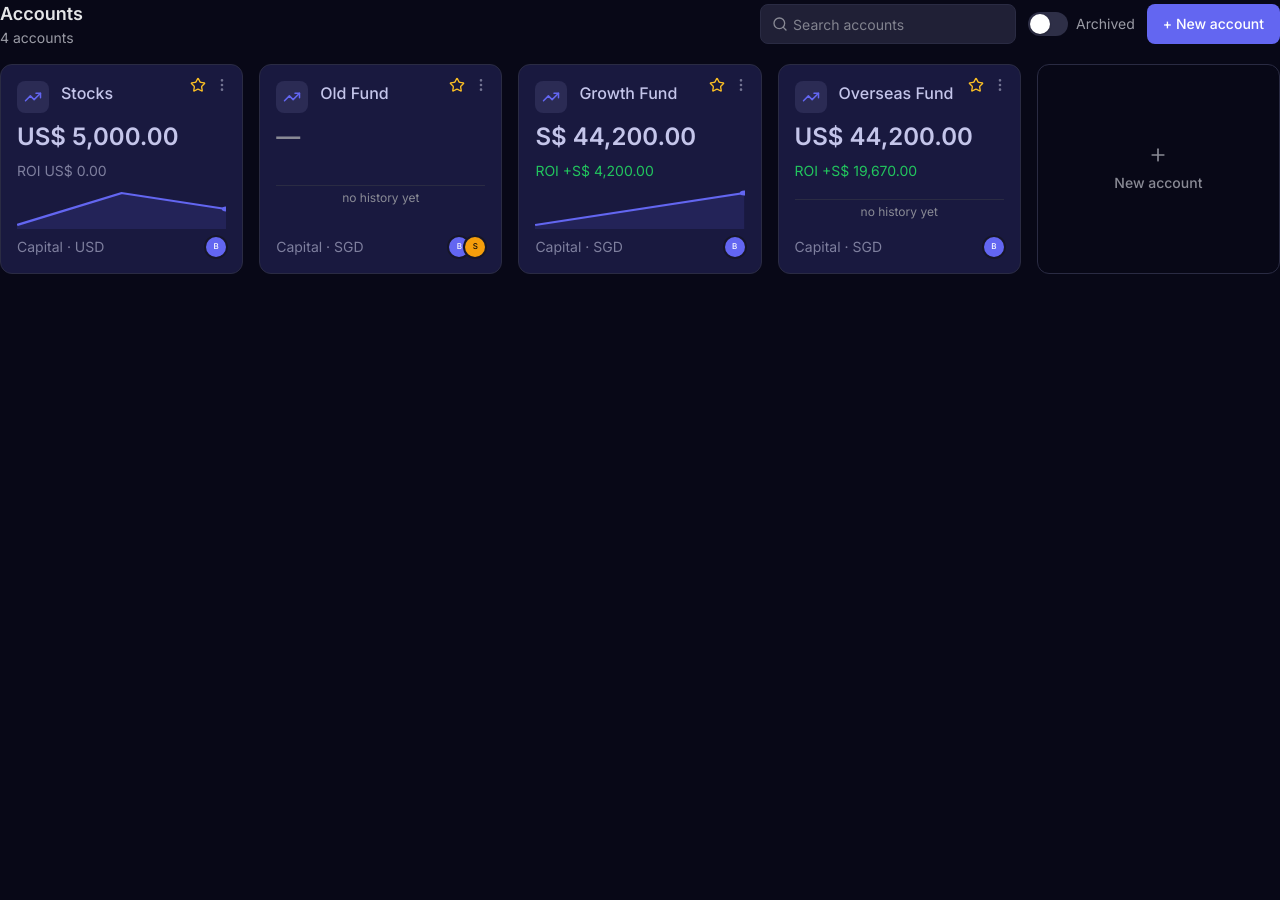
AccountsList › editing a capital prefills investment type + cost basis (AC4)
Expected: the text "Growth Fund" is shown, [579, 83, 677, 103]
# c1 (Stocks) is first on the capital route — cost_basis '5000.0000' → cleaned to '5000'.
What coordinates should you click on to do the following:
click the button named "Actions" next to "Stocks"
I would click on:
 (214, 77)
Its box is [214, 77, 230, 93].
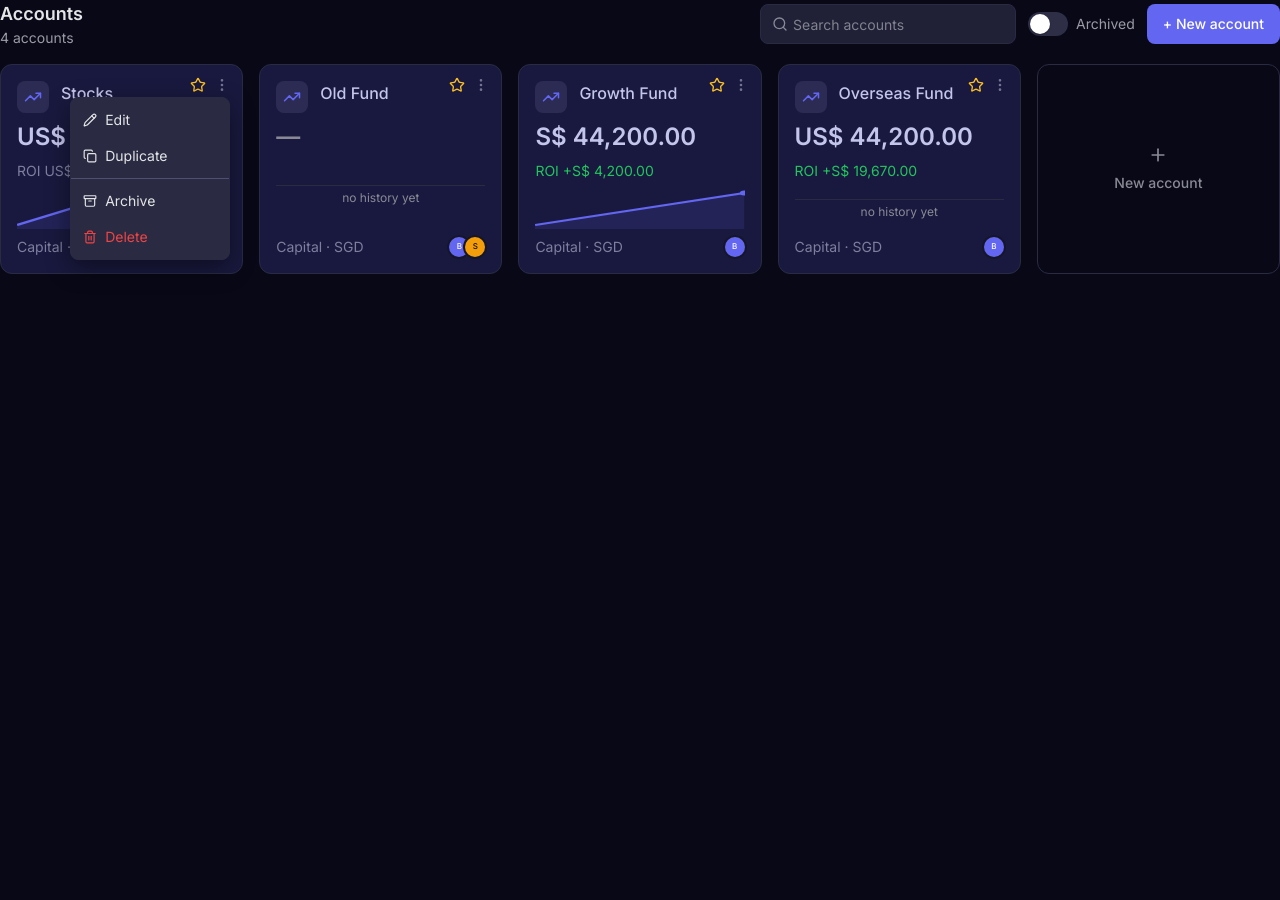
What coordinates should you click on to do the following:
click the menu item "Edit"
I would click on:
 (150, 120)
Its box is [71, 102, 229, 138].
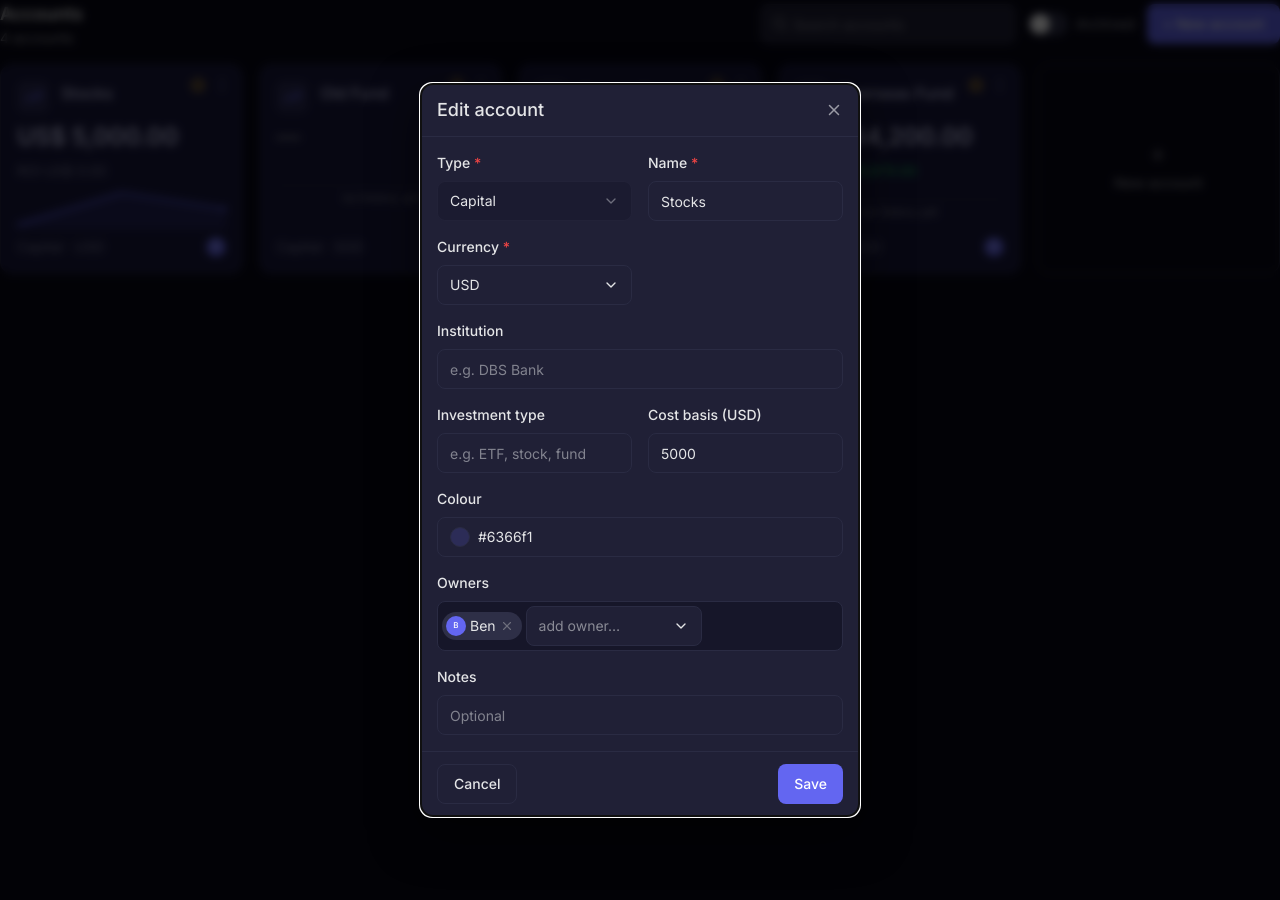
Now the text "Owners" is shown, box [437, 574, 489, 591]
Now the field labelled "Cost basis (USD)" holds "5000", box [648, 433, 843, 473]
